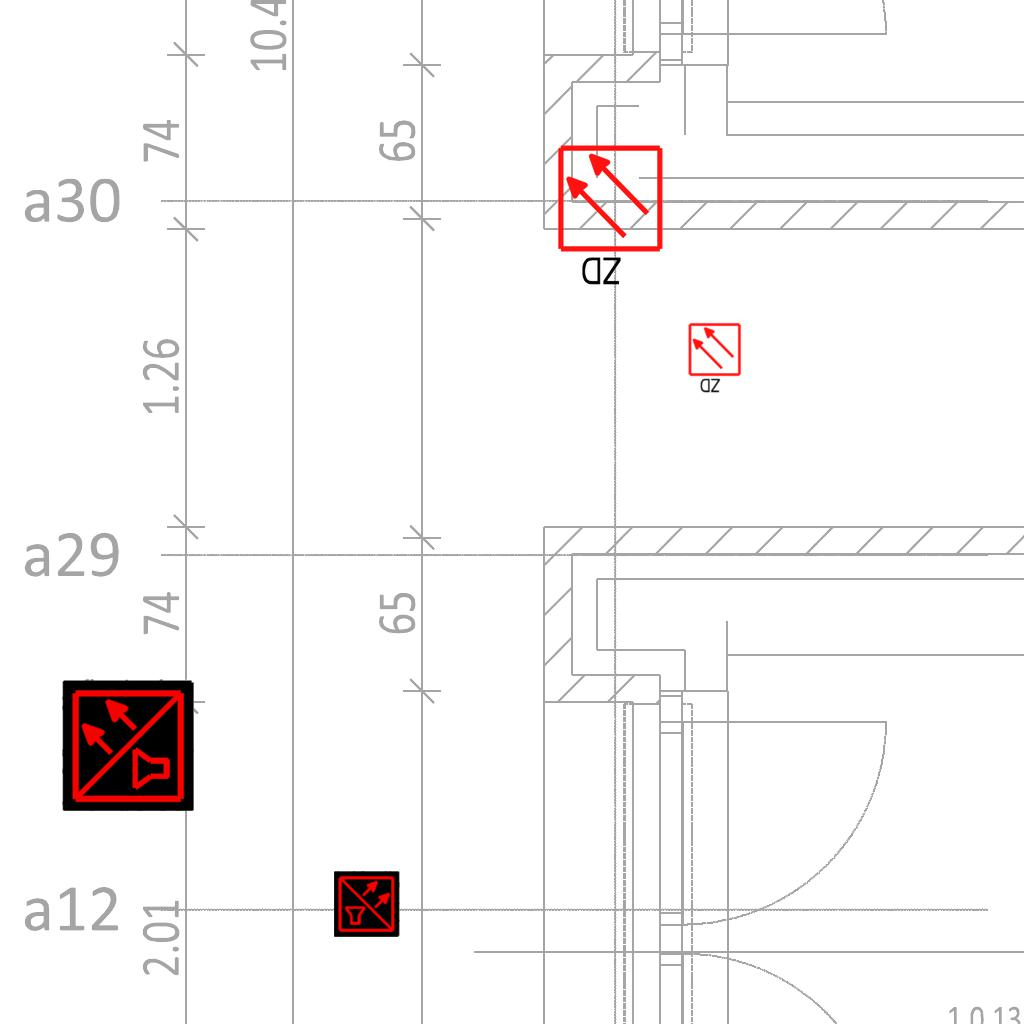OKW_Multisensormelder_(Kombination_optischer_Rauch-Kahlenmonoxid_Waerme-Melder): (62, 679, 194, 811), (334, 871, 400, 937)
ZD_Melder_in_Zwischendecke_mit_Revisionsoeffnung_mind_40_x_40_cm: (555, 143, 669, 292), (687, 322, 744, 396)
